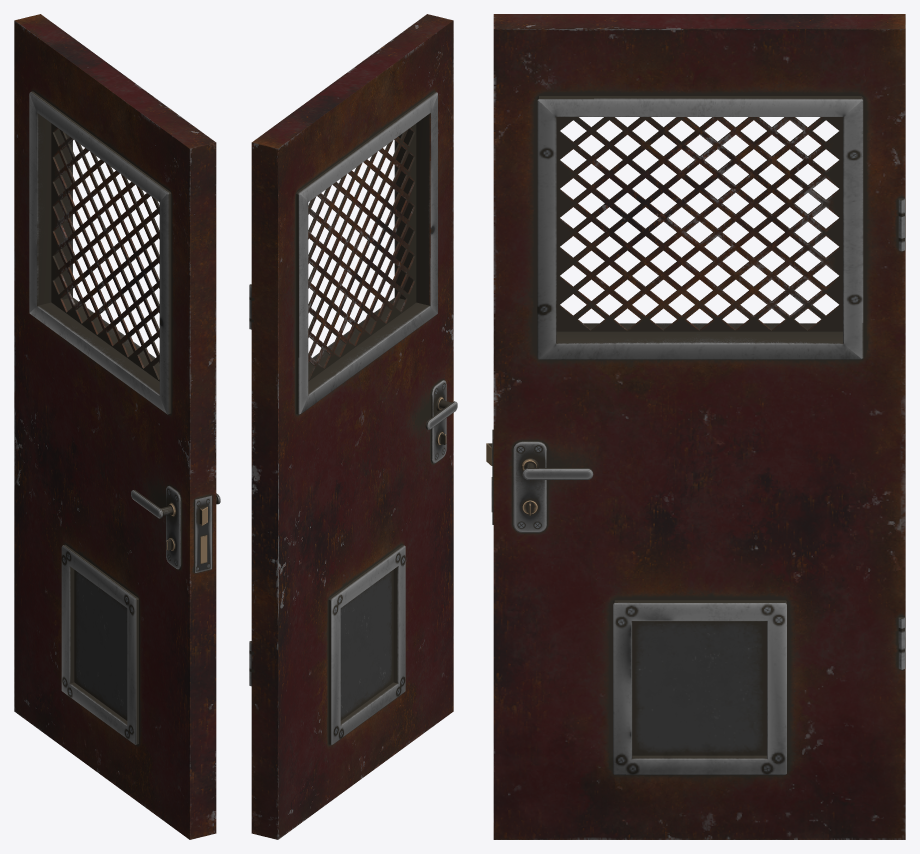
Rendered from door_metal_old_10_mb.glb.
3 renders of one model, left to right at view 1: azimuth 30°, elevation 25°; view 2: azimuth 150°, elevation 25°; view 3: azimuth 270°, elevation 25°, orthographic. The views are drawn at different scales.
Visible parts, largest first — view 1: 01__0, WIN, 01_3__0; view 2: 01__0, WIN; view 3: 01__0, WIN.
Part boxes in pixels (bbox=[...]): 01__0: bbox=[14, 14, 220, 839]; WIN: bbox=[51, 123, 159, 381]; 01_3__0: bbox=[194, 495, 211, 572]; 01__0: bbox=[249, 14, 457, 839]; WIN: bbox=[308, 123, 416, 381]; 01__0: bbox=[493, 14, 905, 839]; WIN: bbox=[556, 117, 842, 331].
Bounding box in the file's own units: 4.36 × 47.11 × 22.08.
Materials: 1 (1 with a texture image).
